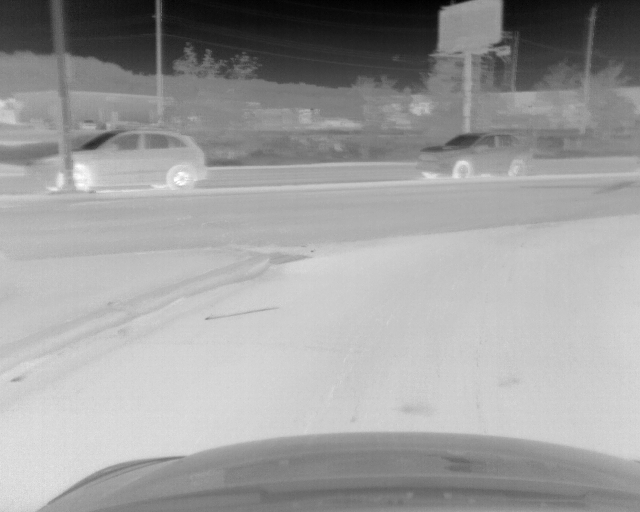car: (37, 129, 209, 192), (416, 133, 526, 181)
